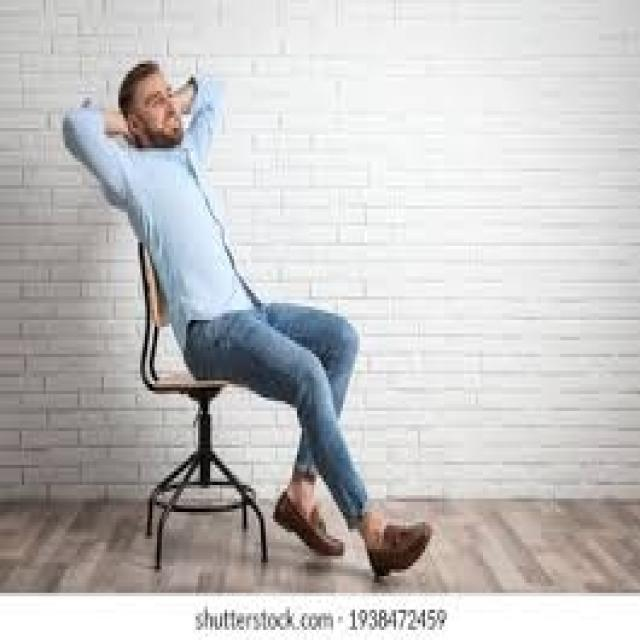sitting: (63, 44, 447, 586)
